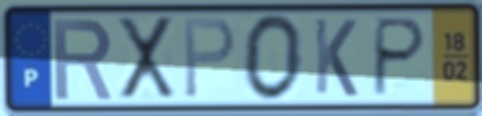K: (311, 15, 360, 100)
O: (240, 12, 305, 104)
P: (369, 15, 430, 100), (181, 15, 238, 102)
R: (50, 16, 115, 103)
X: (114, 14, 179, 103)
